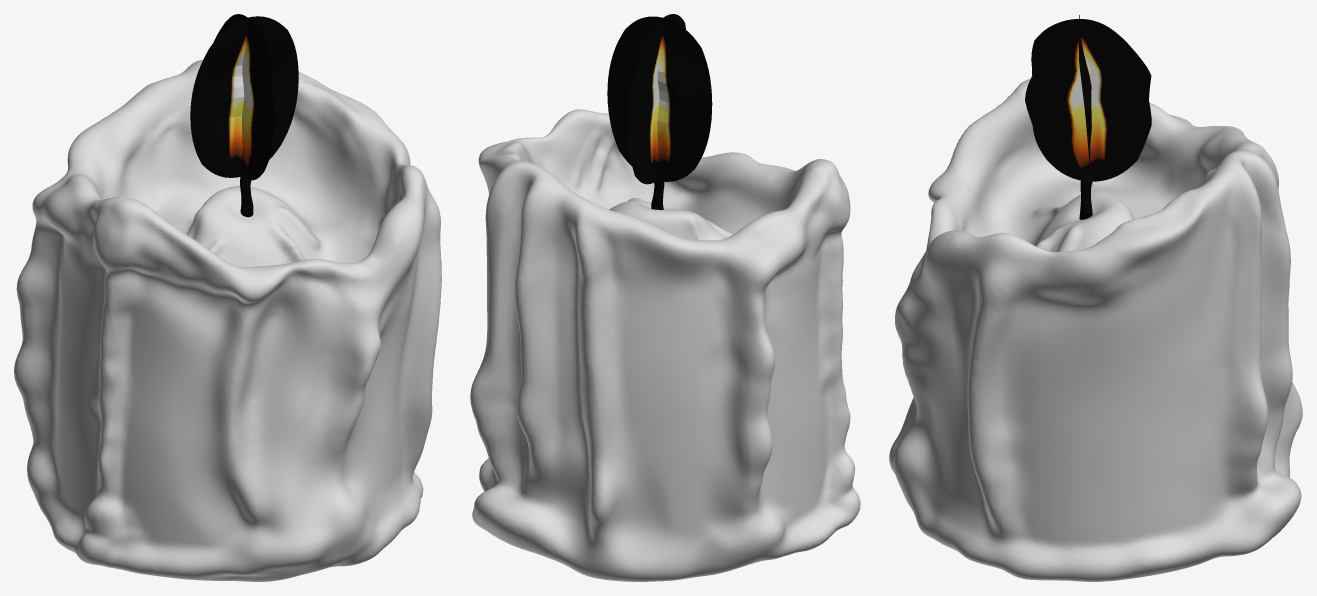
The model's file is Candle.fbx.
The picture shows the model from 3 angles, left to right: view 1: azimuth 30°, elevation 25°; view 2: azimuth 150°, elevation 25°; view 3: azimuth 270°, elevation 25°; orthographic projection. The views are drawn at different scales.
Visible parts, largest first — view 1: Cylinder, candle flame2.002; view 2: Cylinder, candle flame2.002; view 3: Cylinder, candle flame2.002, Cylinder.001.
Boxes of the visible parts, left/top/right/bottom form: Cylinder: left=14, top=59, right=441, bottom=581; candle flame2.002: left=190, top=14, right=298, bottom=180; Cylinder: left=470, top=109, right=860, bottom=581; candle flame2.002: left=607, top=14, right=712, bottom=184; Cylinder: left=889, top=79, right=1302, bottom=581; candle flame2.002: left=1025, top=15, right=1151, bottom=184; Cylinder.001: left=1079, top=172, right=1092, bottom=219.
Size of the model in its own units: 226 by 313 by 234.
Materials: 3 (1 with a texture image).
